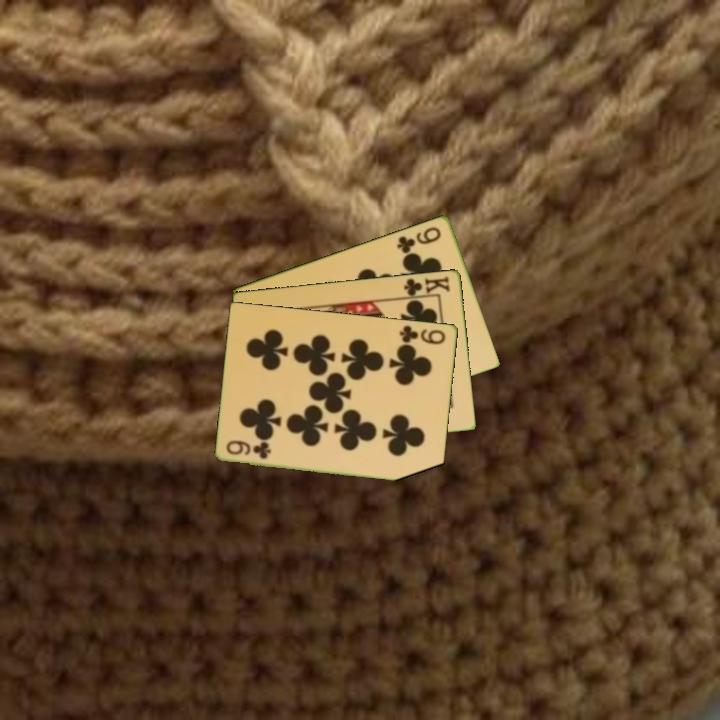9c: (393, 223, 444, 256), (396, 322, 448, 347), (223, 437, 274, 462)
Kc: (400, 272, 453, 300)
